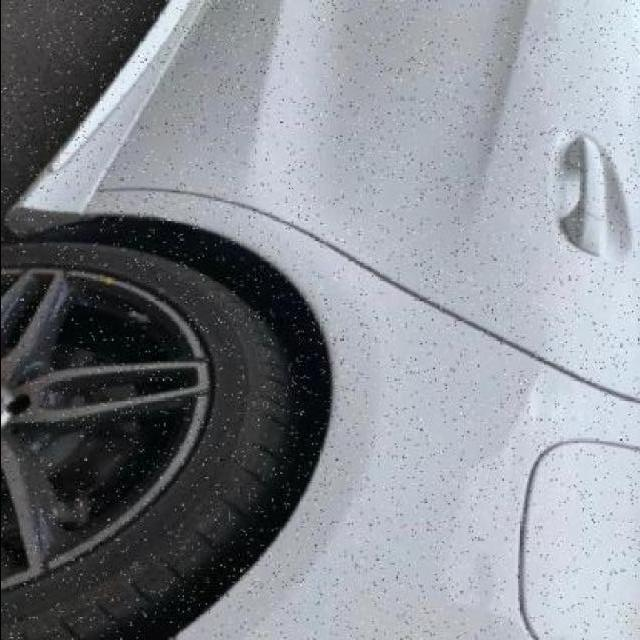quaterpanel-dent: (117, 374, 640, 638)
